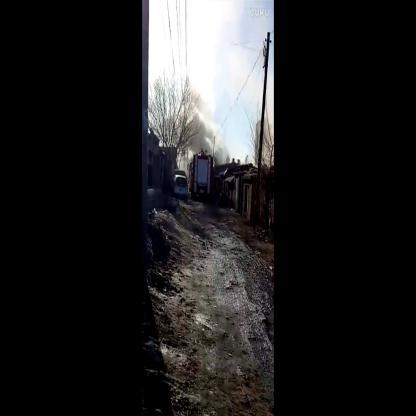smoke: (188, 116, 212, 160)
